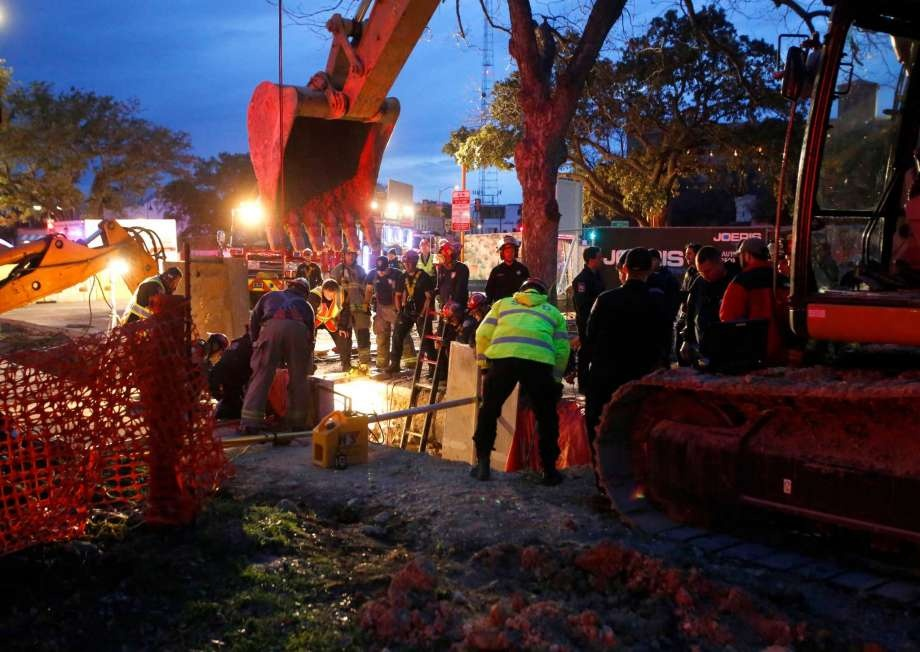none: (693, 244, 725, 281), (622, 246, 652, 283), (737, 236, 768, 269), (162, 264, 184, 290), (582, 244, 603, 269), (320, 278, 339, 301), (372, 255, 390, 276), (683, 241, 700, 263)
red: (494, 233, 519, 263), (518, 275, 549, 298), (466, 292, 489, 319), (206, 331, 229, 358), (288, 275, 311, 299), (442, 300, 462, 323), (401, 249, 419, 270), (300, 247, 313, 262)
